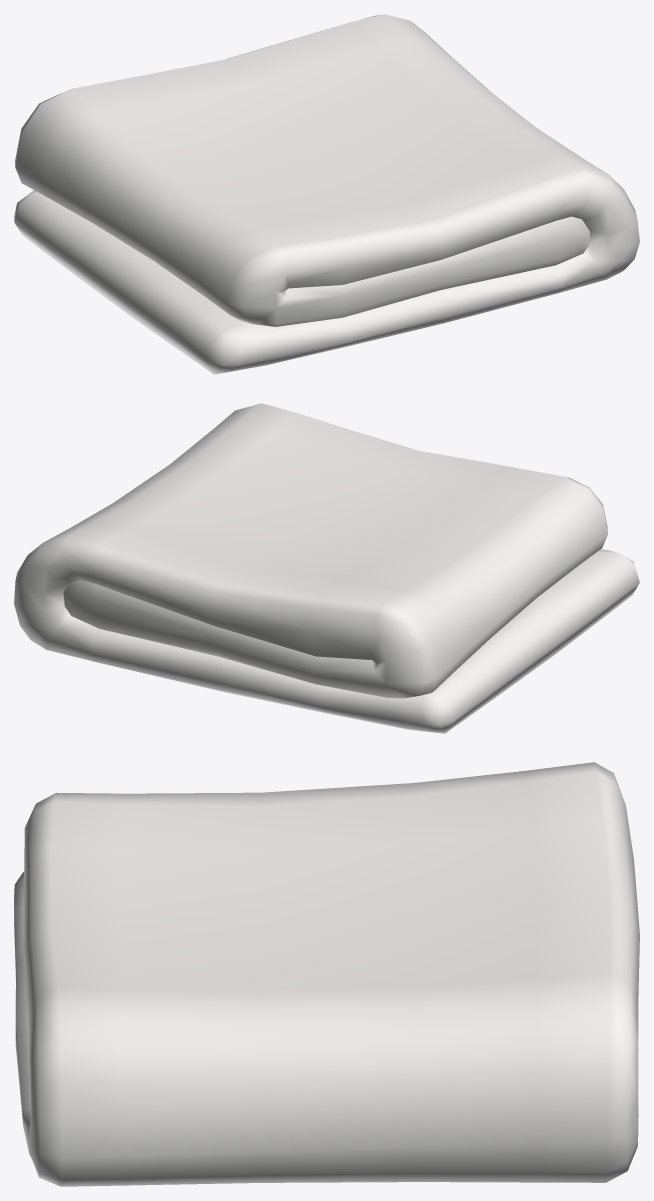
File: P_DecorFoldedCloth.glb
3 renders of one model, top to bottom at view 1: azimuth 30°, elevation 25°; view 2: azimuth 150°, elevation 25°; view 3: azimuth 270°, elevation 25°, orthographic. The views are drawn at different scales.
Visible parts, largest first — view 1: P_DecorFoldedCloth; view 2: P_DecorFoldedCloth; view 3: P_DecorFoldedCloth.
Boxes of the visible parts, left/top/right/bottom form: P_DecorFoldedCloth: left=14, top=14, right=639, bottom=374; P_DecorFoldedCloth: left=14, top=403, right=639, bottom=733; P_DecorFoldedCloth: left=14, top=762, right=639, bottom=1186.
Size of the model in its own units: 0.5087 by 0.1452 by 0.4509.
Materials: 1 (1 with a texture image).
